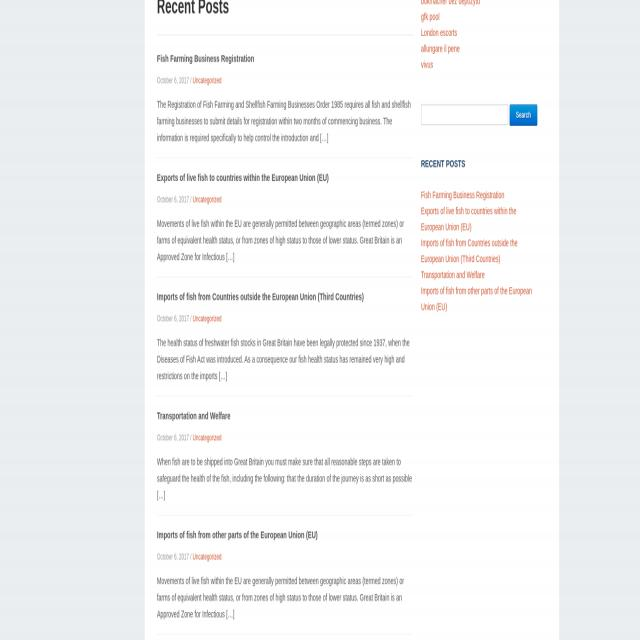button: (509, 104, 537, 126)
field: (421, 105, 509, 125)
